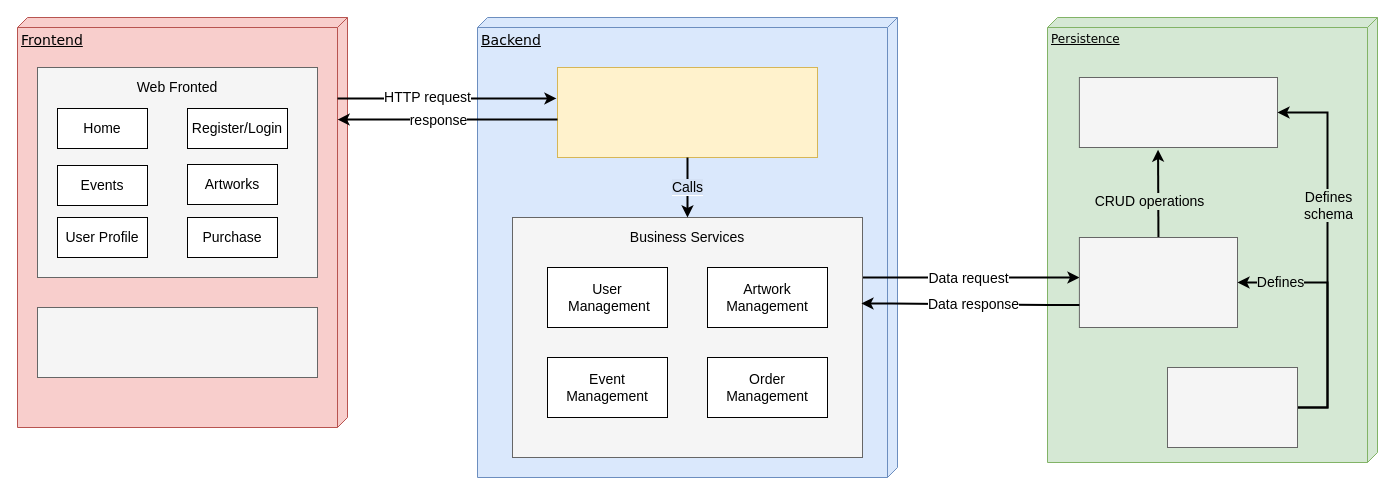
This 1395x495 diagram has some shape labels left out. The shapes that lost their labels are listed below. From the top down, each one's centre as x and y in pixels, then its label:
At (x=687, y=112): "REST Controller".
At (x=1178, y=112): "Heroku PostGres Database".
At (x=1158, y=282): "Data Access Objects".
At (x=177, y=342): "Android Fronted (No decision made yet)".
At (x=1232, y=407): "Model Classes".
